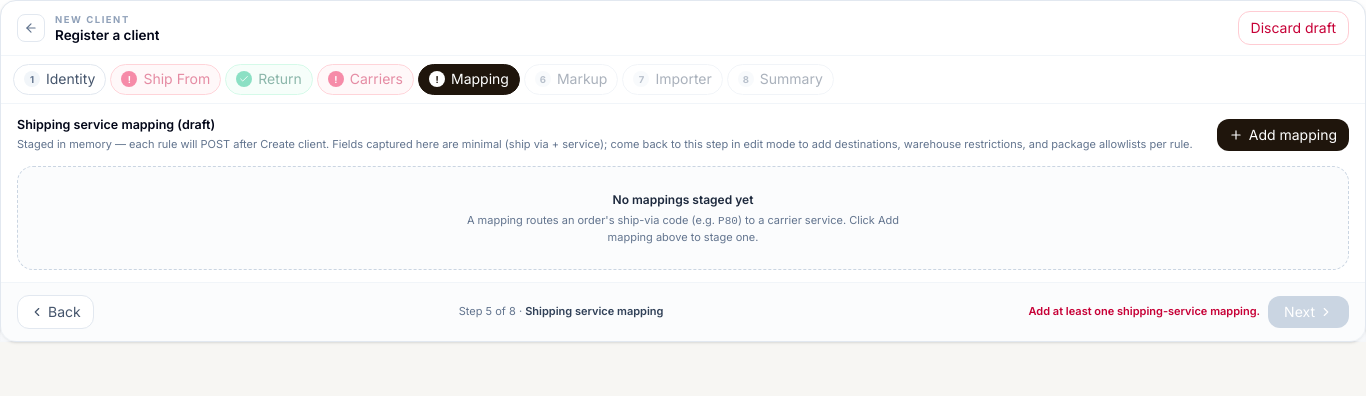
Test: MappingDraftStep — create mode positive cases › marks the platform-account label as "required" when no client carrier is staged
Click the button "Add mapping" at (1283, 135), box [1217,118,1349,151]
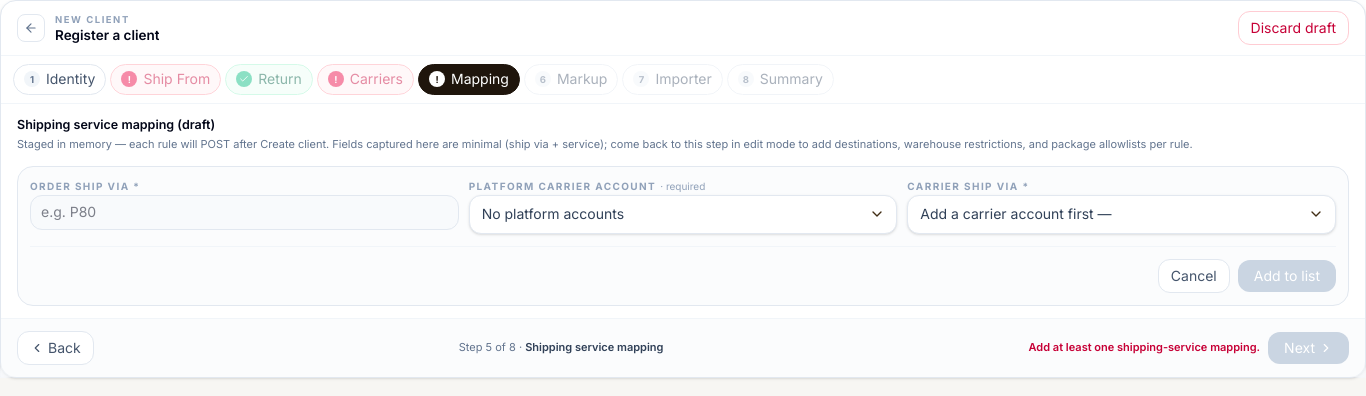
Expected: the text "· required" is shown, [660,180,705,192]
